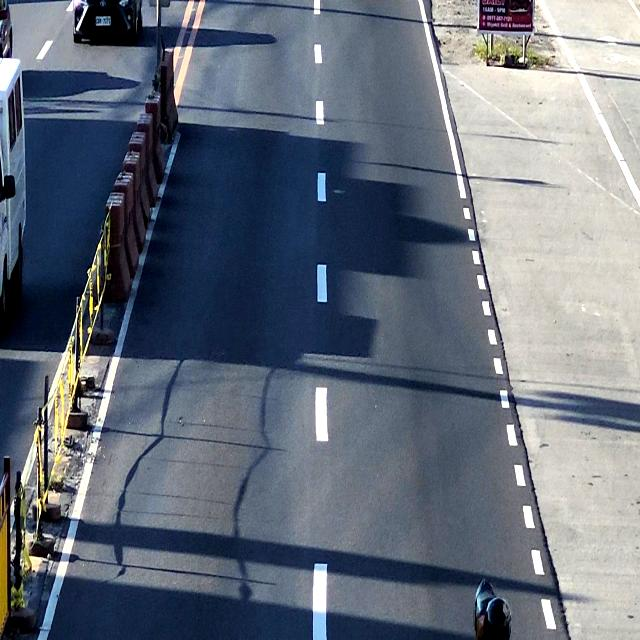Motorcycle: (473, 579, 513, 640)
